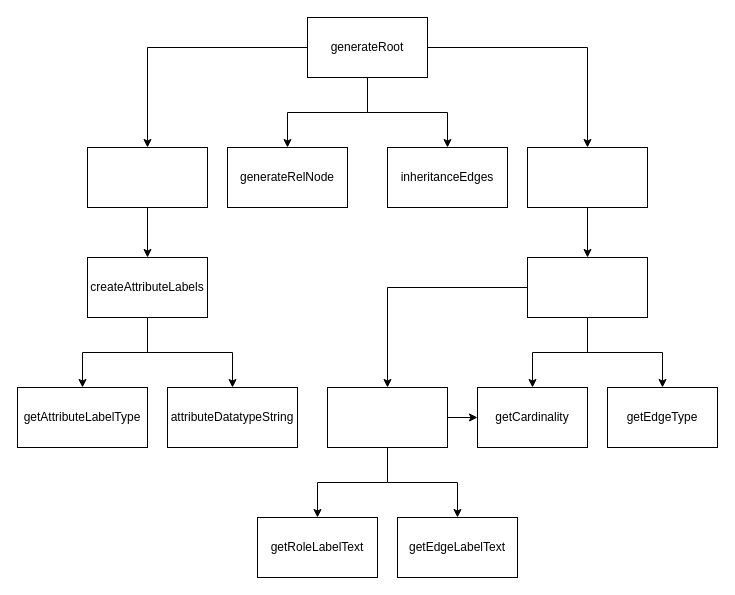
The diagram is 735 pixels wide and 595 high, and some of its shapes have lost their labels. The centre of each missing label's shape, as x and y in pixels:
createEdge: the point at 587,287
createLabels: the point at 387,417
generateNode: the point at 147,177
generateRelEdges: the point at 587,177
